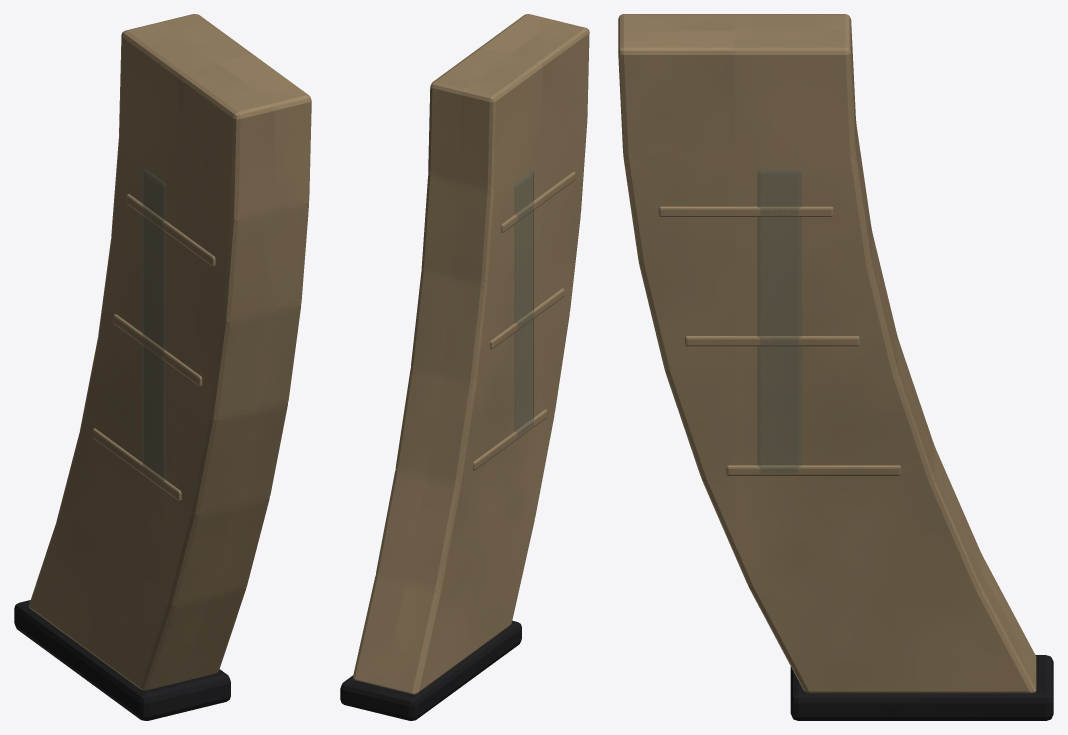
Rendered from mag_polymer_rifle.glb.
3 views of the same model, side by side, from view 1: azimuth 30°, elevation 25°; view 2: azimuth 150°, elevation 25°; view 3: azimuth 270°, elevation 25° (orthographic). The views are drawn at different scales.
Visible parts, largest first — view 1: mag, window, mag_base, mag_rib0, mag_rib1, mag_rib2; view 2: mag, mag_base, window, mag_rib2, mag_rib0, mag_rib1; view 3: mag, window, mag_base, mag_rib0, mag_rib1, mag_rib2.
Boxes of the visible parts, x1=… form: mag: x1=29, y1=14, x2=311, y2=690; window: x1=142, y1=169, x2=165, y2=480; mag_base: x1=14, y1=600, x2=230, y2=720; mag_rib0: x1=126, y1=194, x2=215, y2=266; mag_rib1: x1=113, y1=314, x2=202, y2=386; mag_rib2: x1=92, y1=428, x2=181, y2=500; mag: x1=352, y1=14, x2=589, y2=694; mag_base: x1=340, y1=620, x2=521, y2=720; window: x1=515, y1=171, x2=533, y2=435; mag_rib2: x1=473, y1=409, x2=547, y2=470; mag_rib0: x1=501, y1=171, x2=575, y2=232; mag_rib1: x1=490, y1=288, x2=564, y2=349; mag: x1=618, y1=14, x2=1036, y2=693; window: x1=757, y1=169, x2=801, y2=472; mag_base: x1=790, y1=655, x2=1053, y2=720; mag_rib0: x1=658, y1=206, x2=833, y2=216; mag_rib1: x1=685, y1=336, x2=859, y2=346; mag_rib2: x1=726, y1=465, x2=900, y2=475.
Size of the model in its own units: 0.028 by 0.197 by 0.1159.
3 materials, 2 textured.
